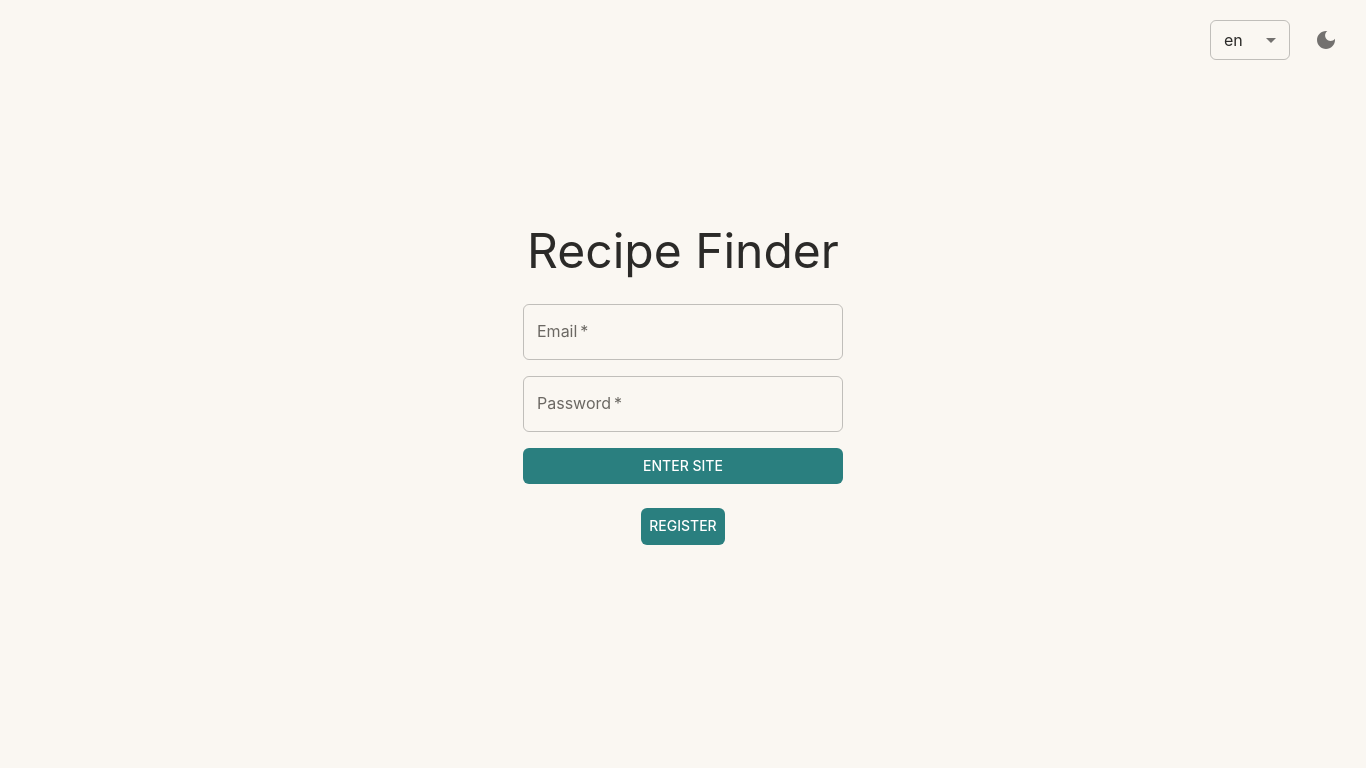
Test: Register flow › registers a new user and lands on search
Note: Open the register modal
Click the button "Register". click: [683, 527]
box: [641,508,724,545]
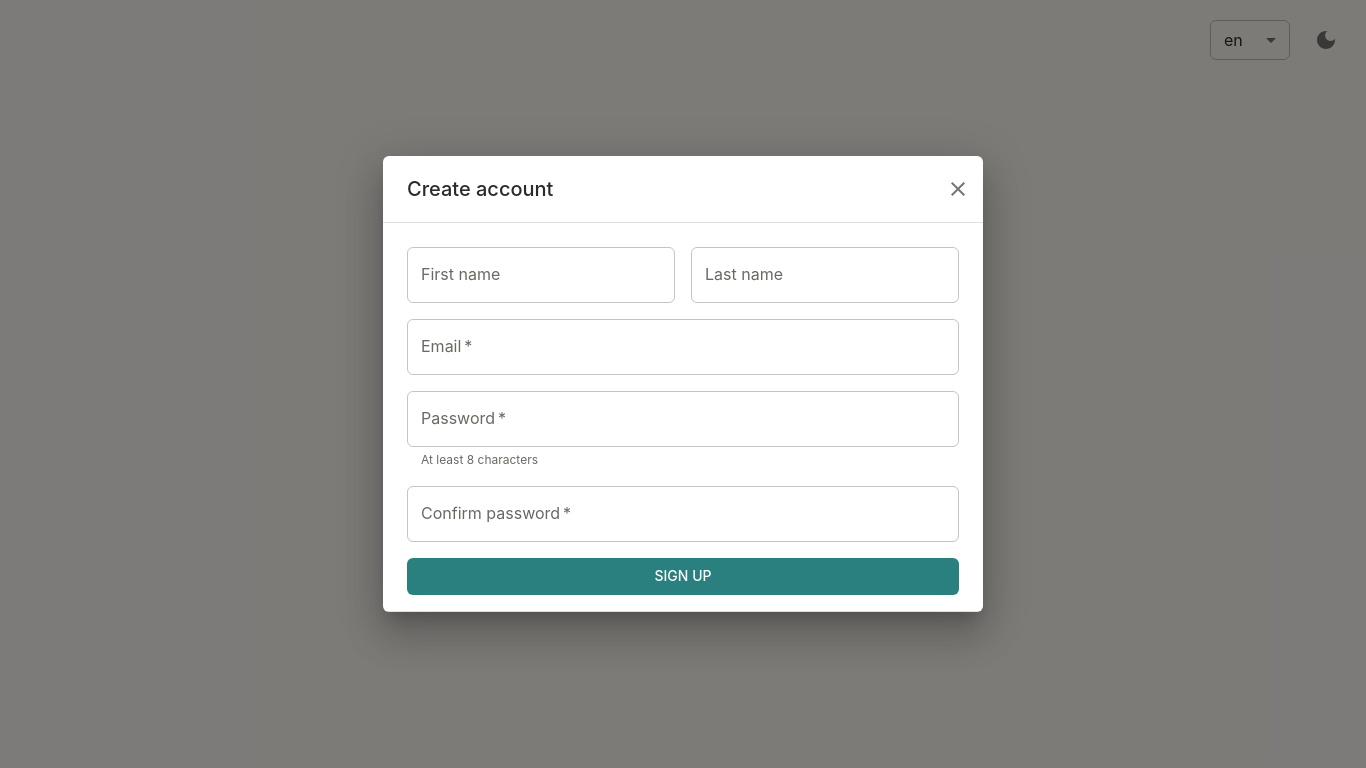
Type "new@test.com" into the field labelled "Email *". click: [683, 347]
box: [407,319,959,375]
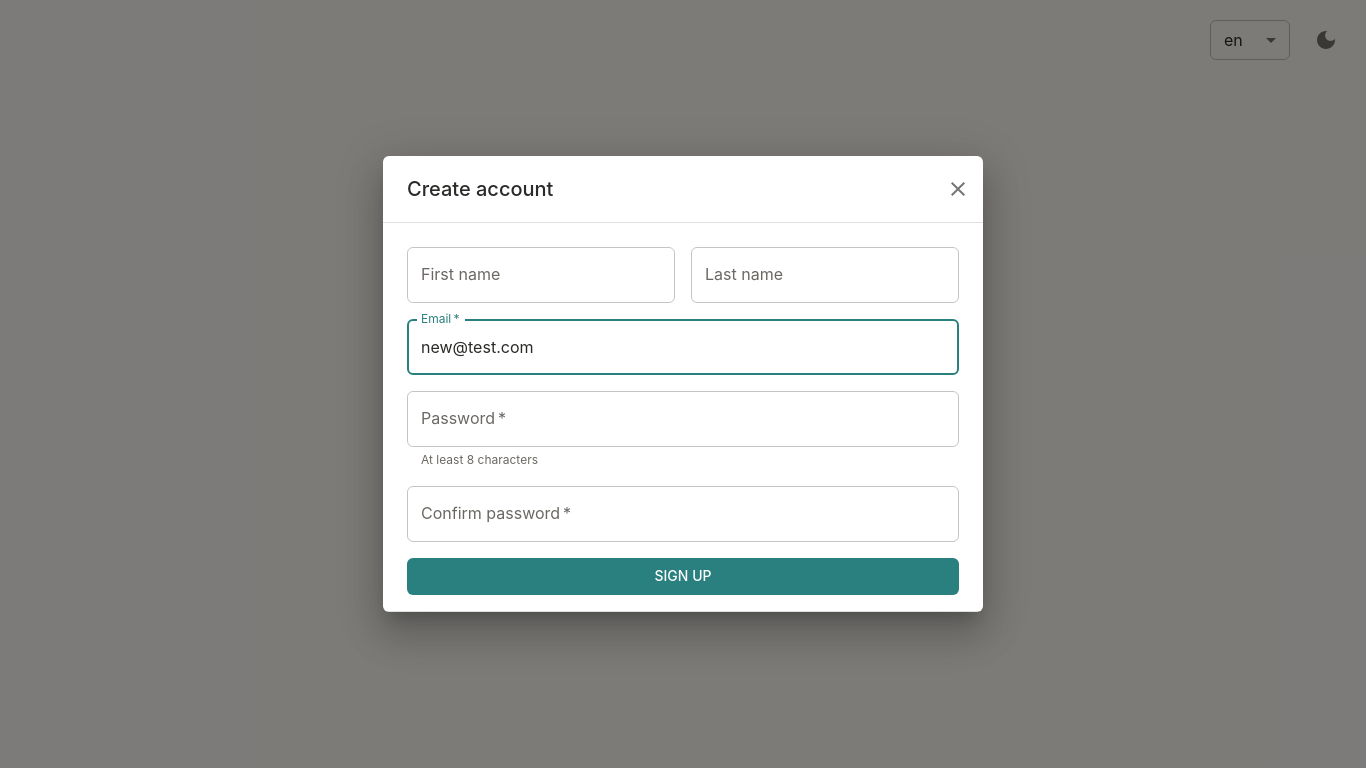
Note: two password fields in the modal: password, then confirm
Type "password123" into the password field labelled "Password *". click: [683, 419]
box: [407,391,959,447]
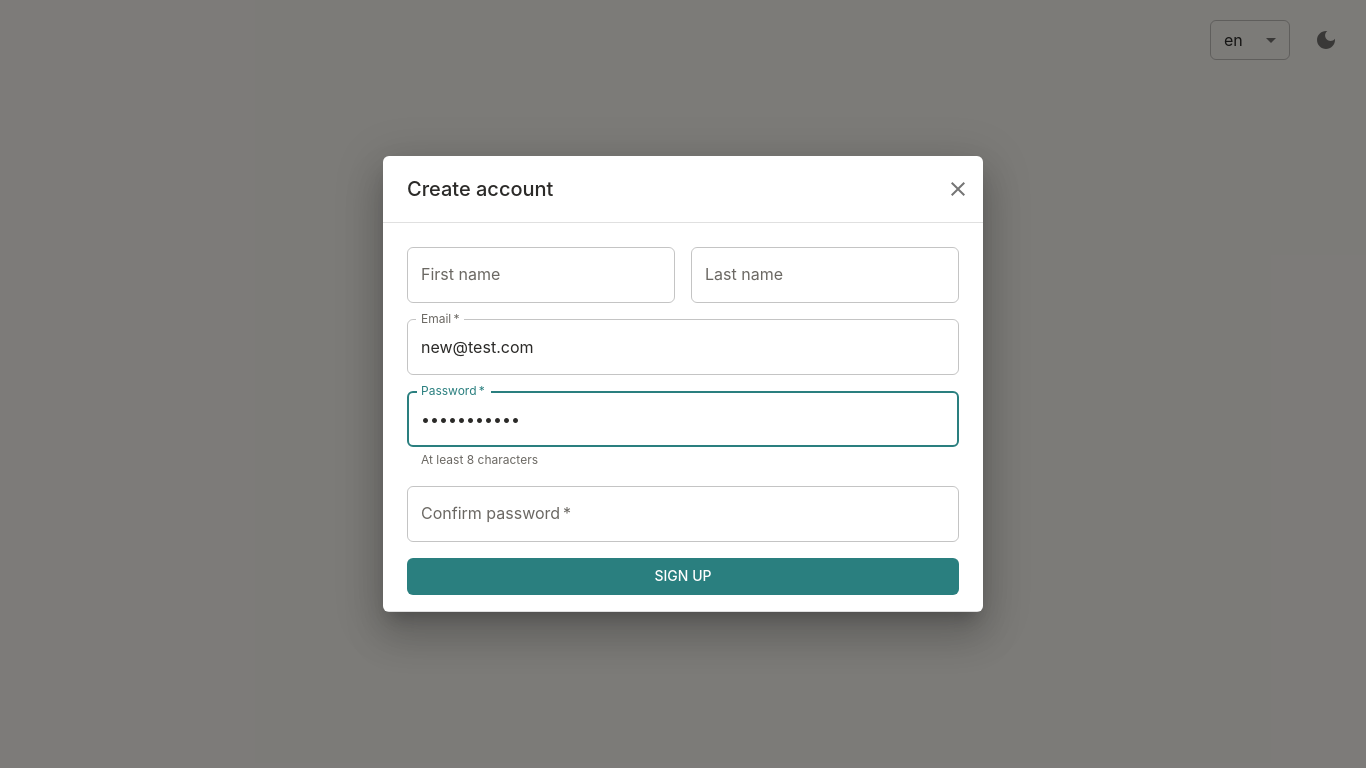
Type "password123" into the password field labelled "Confirm password *". click: [683, 514]
box: [407,486,959,542]
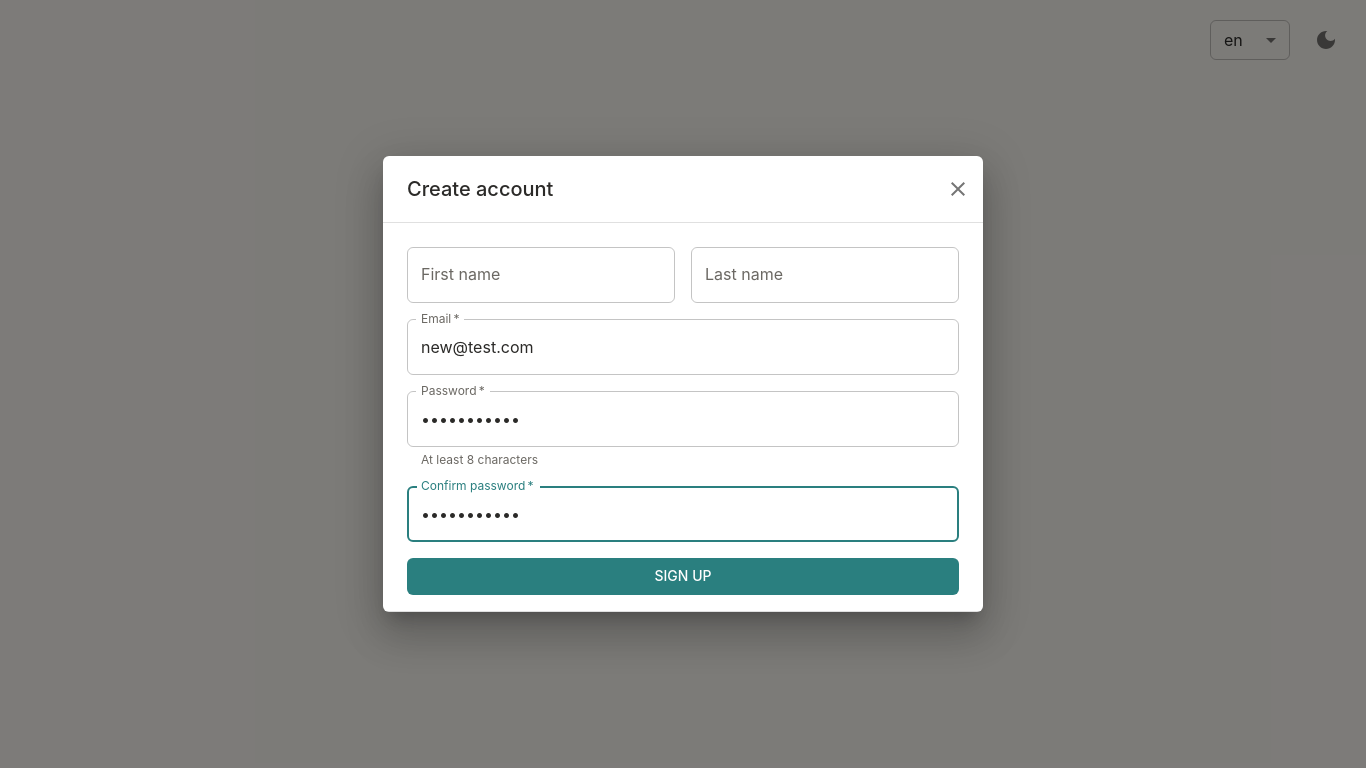
Click the submit button. click: [683, 577]
box: [407,558,959,595]
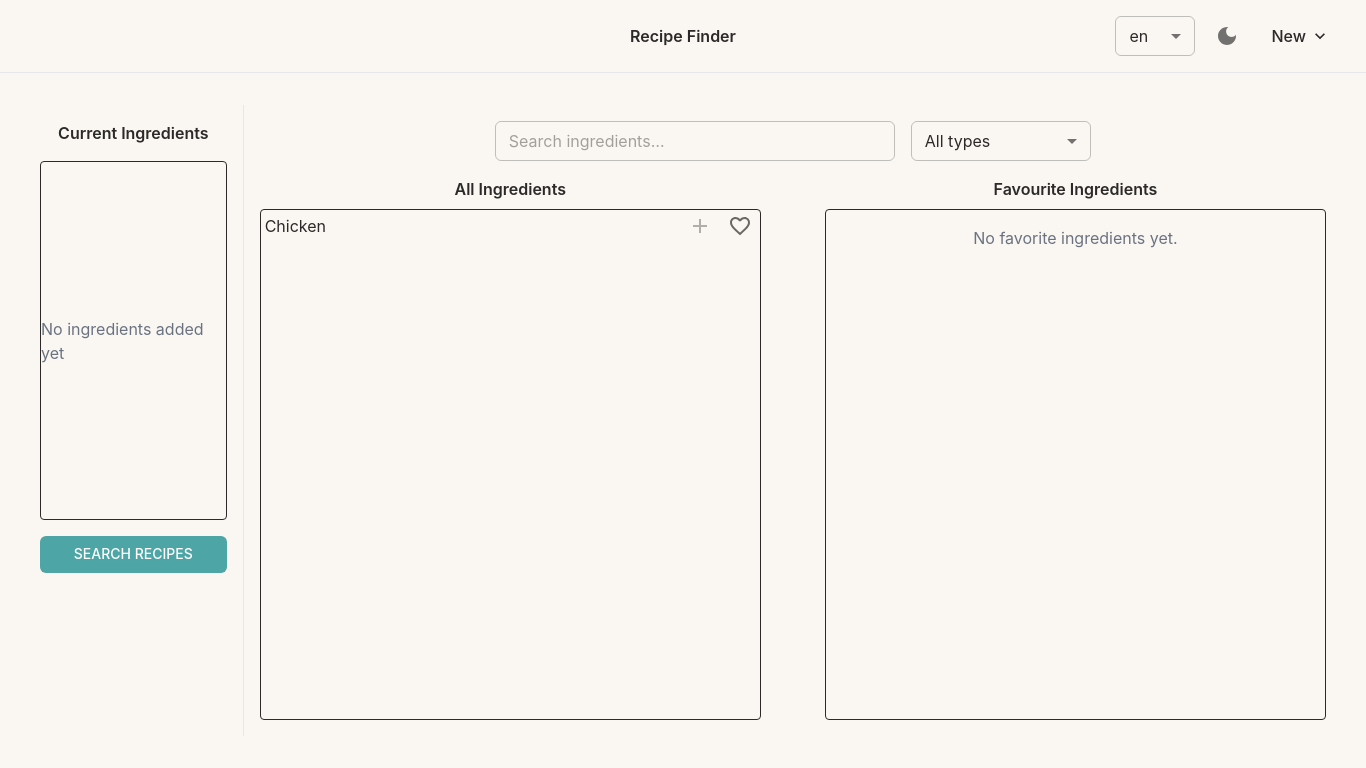
Expected: the text "Chicken" is shown, [261,210,330,242]
